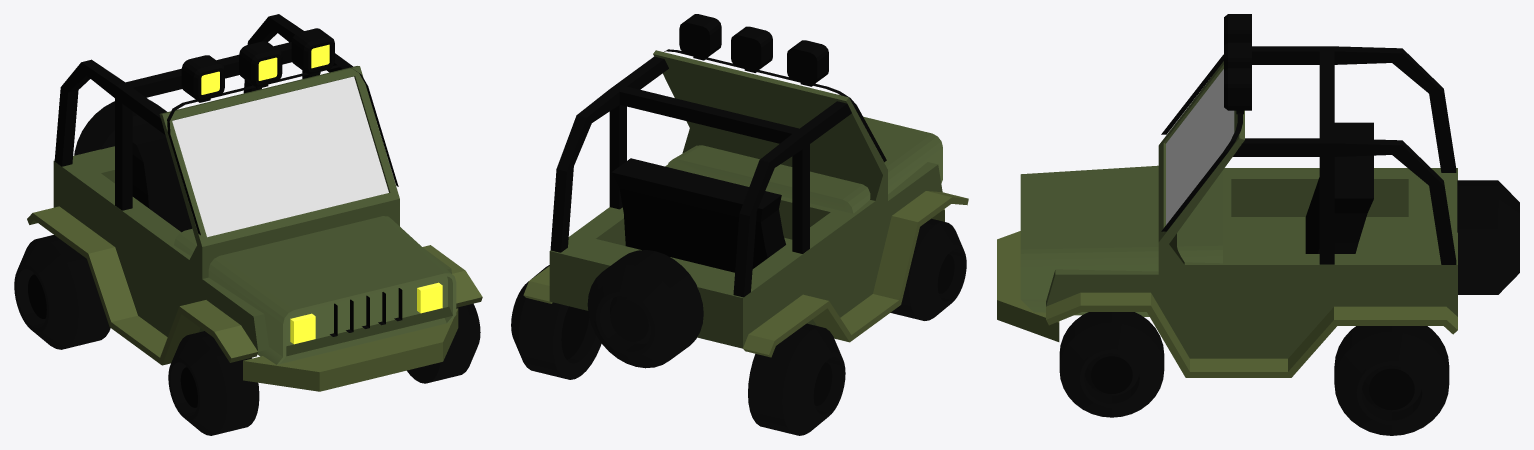
File: jeep.fbx
3 views of the same model, side by side, from view 1: azimuth 30°, elevation 25°; view 2: azimuth 150°, elevation 25°; view 3: azimuth 270°, elevation 25° (orthographic). The views are drawn at different scales.
Parts seen in each view (by area): view 1: Cube; view 2: Cube; view 3: Cube.
Boxes of the visible parts, x1,y1,x2,y2 form: Cube: [14, 14, 482, 435]; Cube: [511, 14, 968, 435]; Cube: [997, 14, 1519, 435].
Size of the model in its own units: 311 by 310 by 455.
